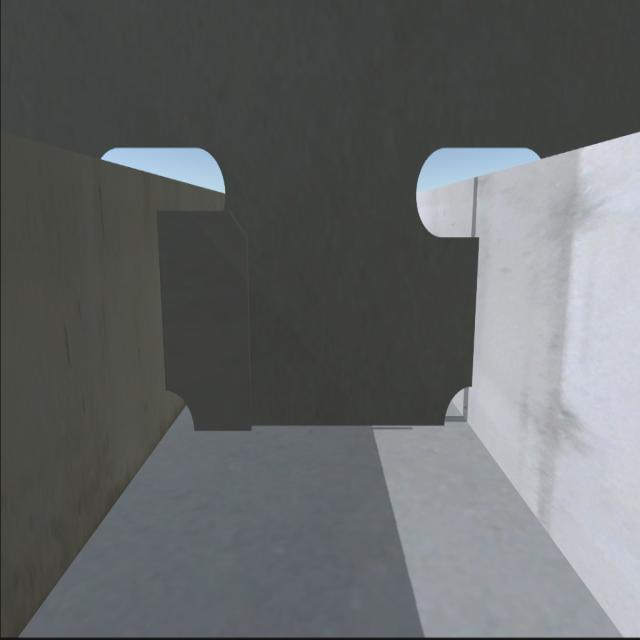fillet_hole: (445, 382, 474, 418), (164, 394, 190, 429)
fillet_yong_jeop_jang: (196, 426, 444, 428)
longi_yong_jeop_jang: (158, 218, 172, 380), (472, 235, 484, 386)
plate_CP03: (160, 212, 246, 426)
